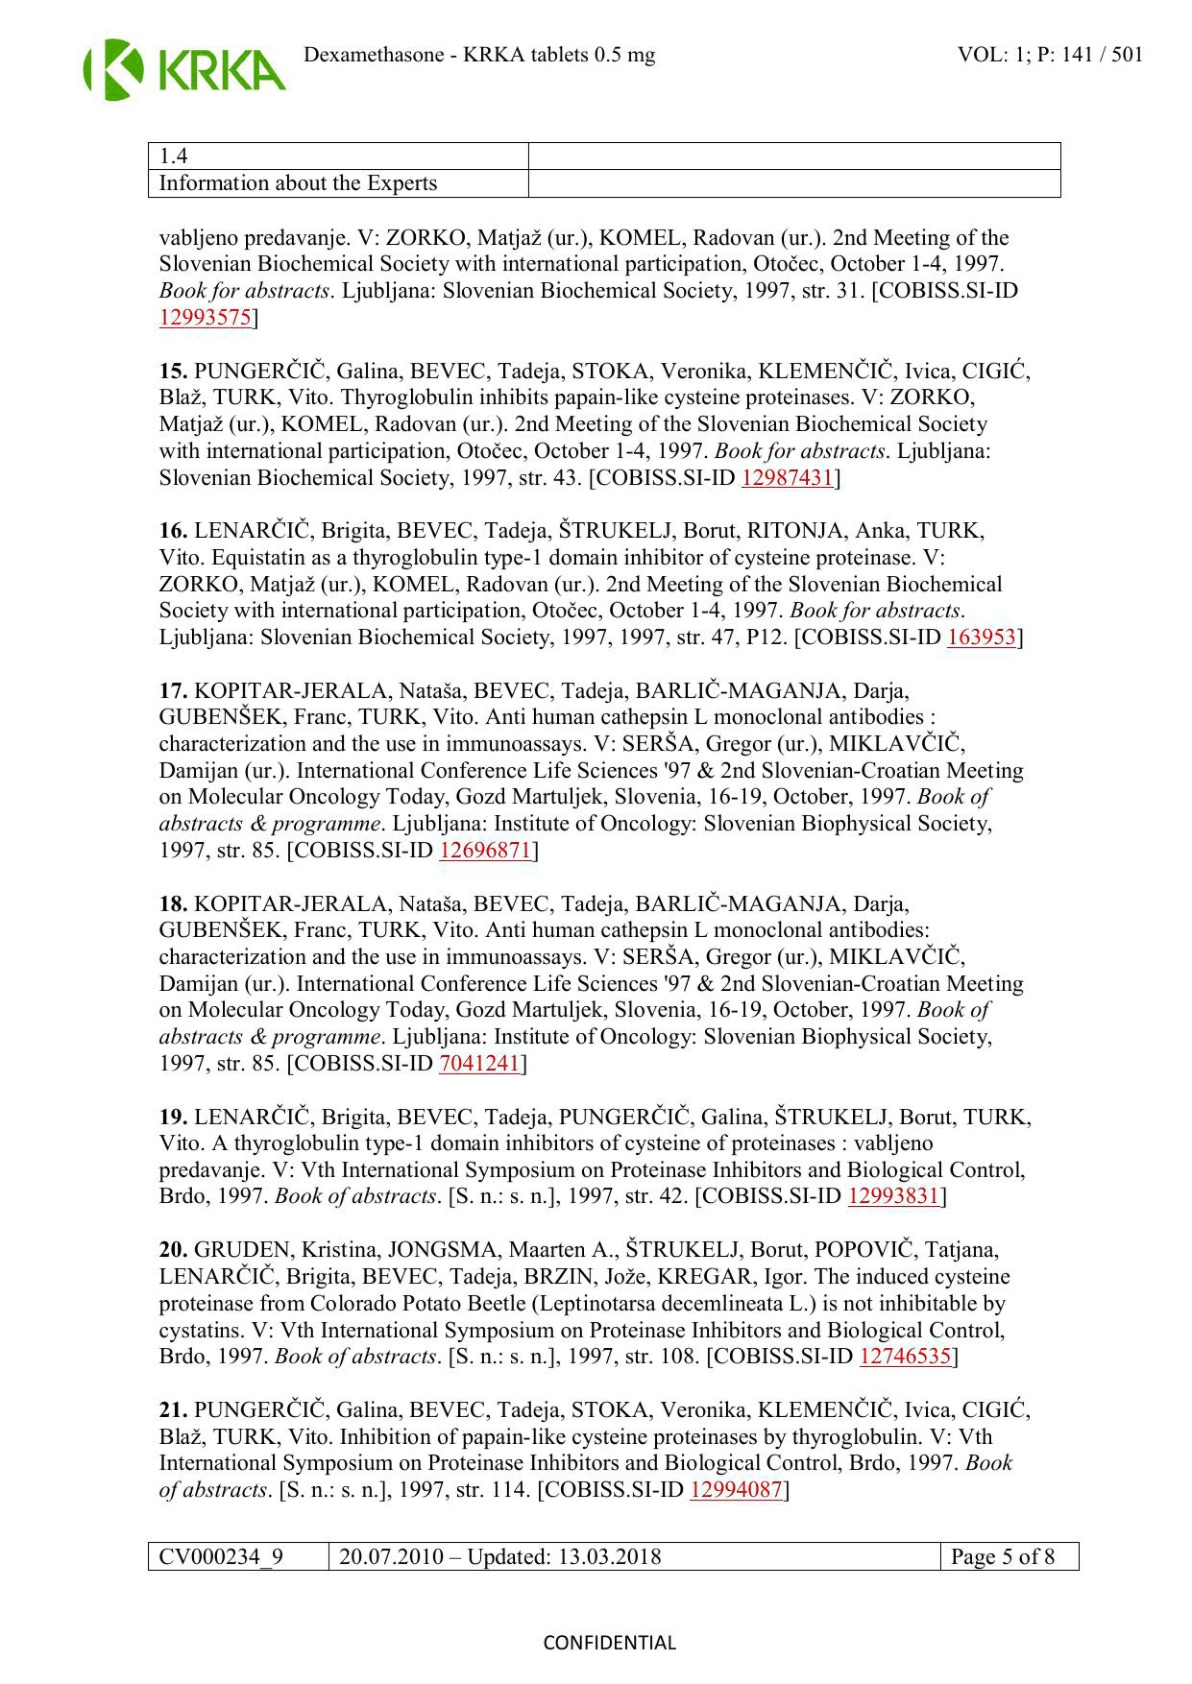full_lined: (146, 141, 1062, 199), (147, 1540, 1080, 1572)
